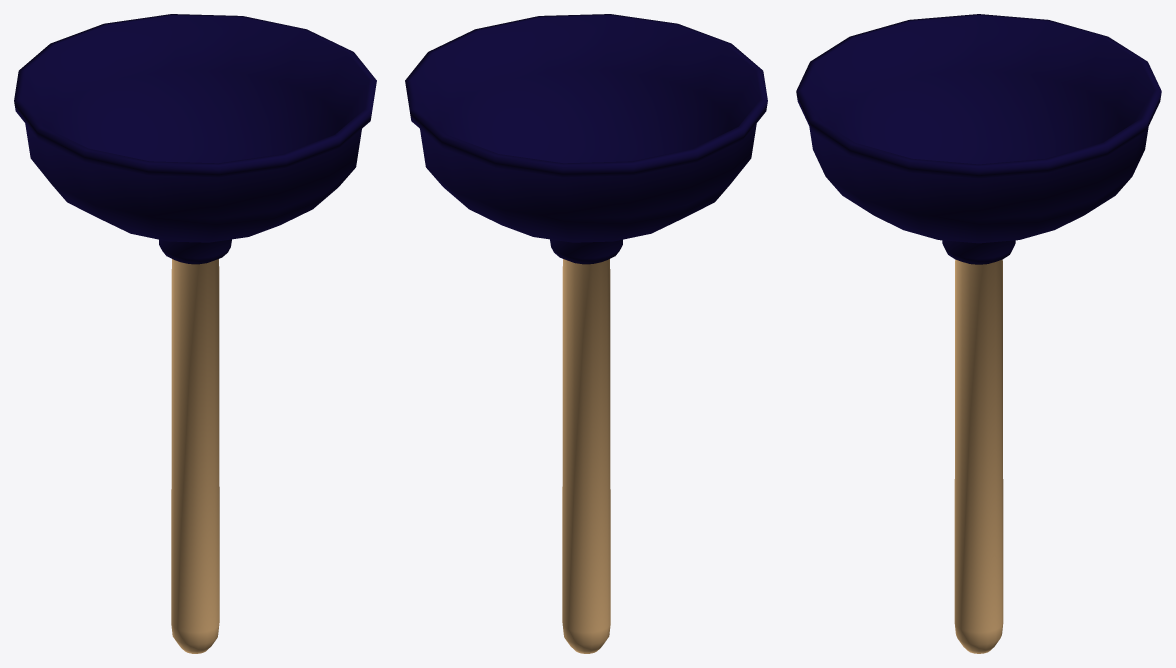
Rendered from torch3.fbx.
The picture shows the model from 3 angles, left to right: view 1: azimuth 30°, elevation 25°; view 2: azimuth 150°, elevation 25°; view 3: azimuth 270°, elevation 25°; orthographic projection.
Parts seen in each view (by area): view 1: unclogger; view 2: unclogger; view 3: unclogger.
Part boxes in pixels (x1,y1,x2,y2): unclogger: [14, 14, 376, 653]; unclogger: [405, 14, 767, 653]; unclogger: [796, 14, 1161, 653].
Size of the model in its own units: 164 by 276 by 164.
